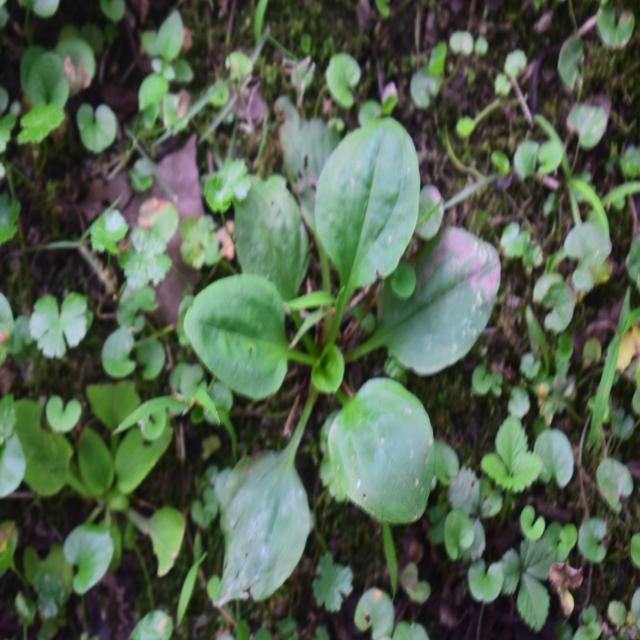plantain: (177, 127, 495, 565)
